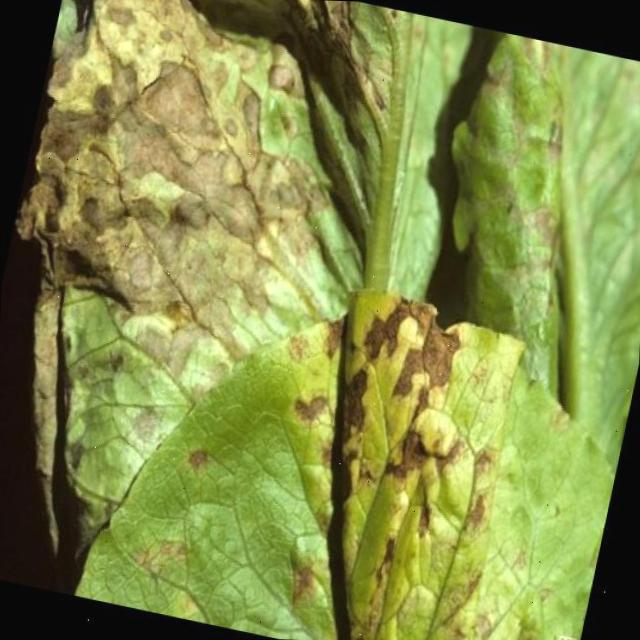Septoria_Blight: (42, 47, 302, 340)
